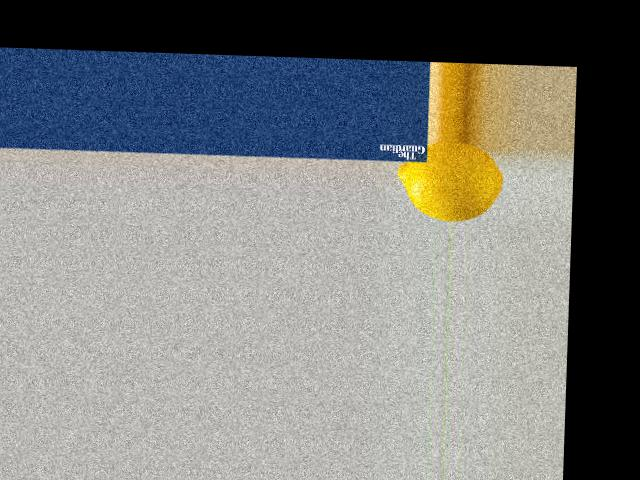lemon: (390, 139, 510, 223)
